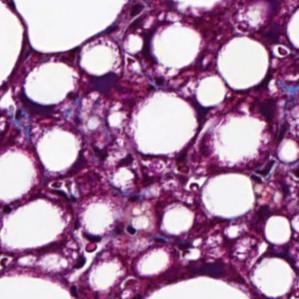inflammation: (86, 129, 137, 173), (245, 156, 284, 188)
